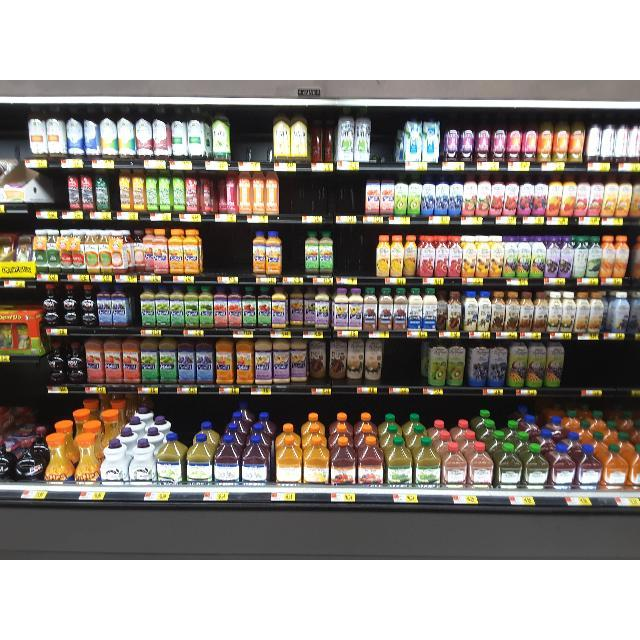empty: (279, 172, 365, 215), (564, 341, 640, 389), (203, 222, 253, 276), (230, 105, 274, 161), (333, 224, 375, 276), (386, 338, 420, 386), (372, 106, 396, 164), (280, 224, 306, 276), (52, 170, 68, 210), (110, 169, 118, 211)
front: (310, 378, 384, 386)
